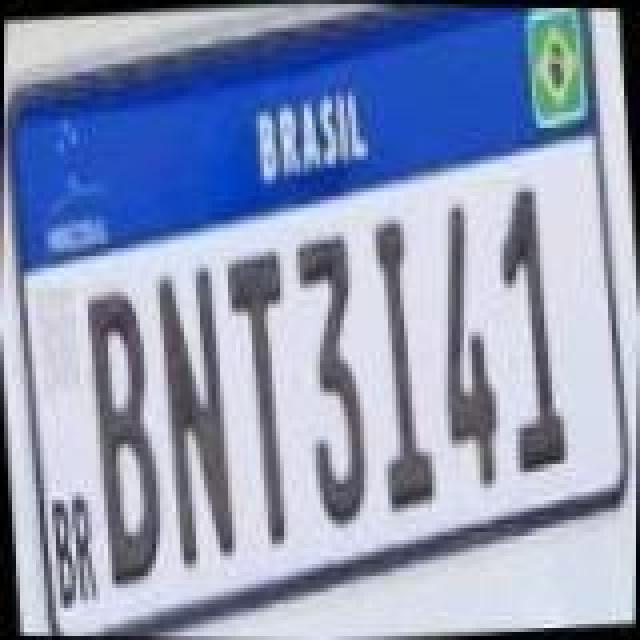1: (492, 186, 572, 478)
3: (292, 226, 380, 530)
4: (428, 200, 508, 488)
B: (80, 288, 172, 592)
I: (364, 220, 444, 516)
N: (152, 262, 244, 570)
T: (220, 246, 304, 550)
